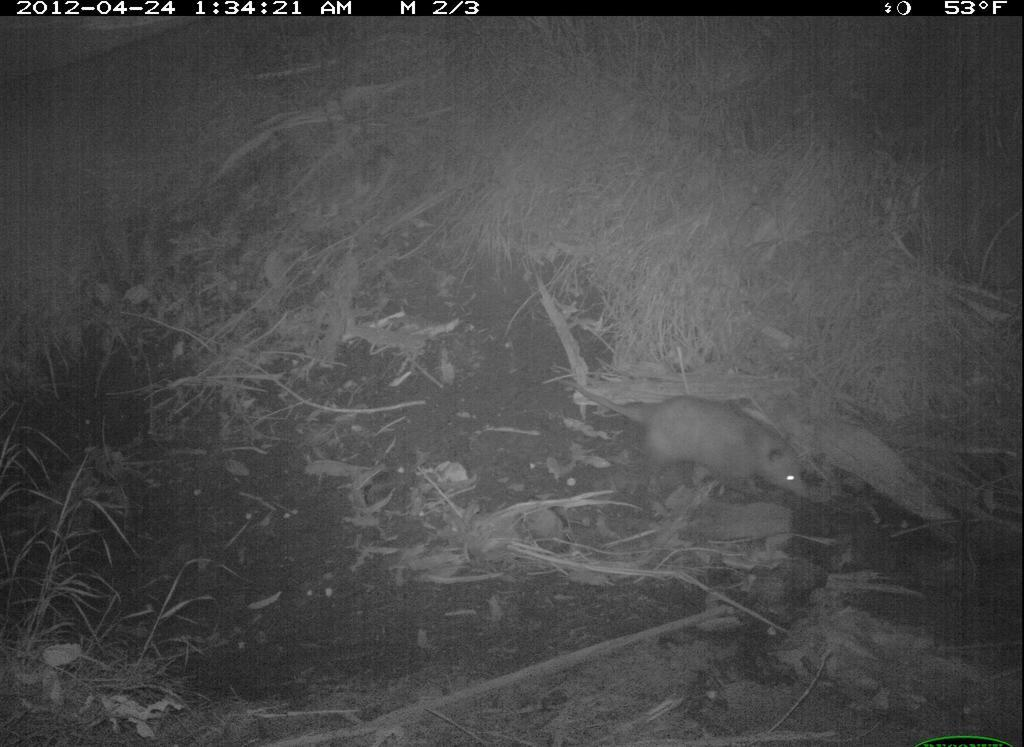opossum: (555, 367, 820, 509)
